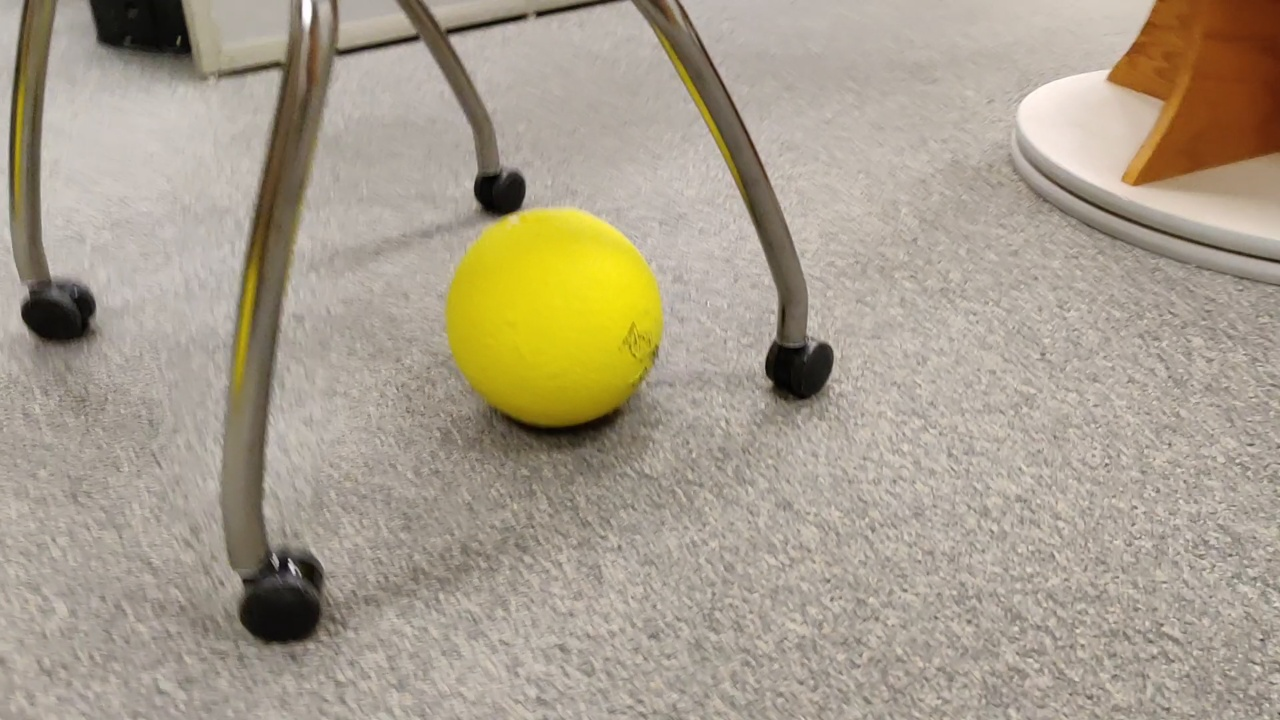Ball: (443, 206, 661, 429)
